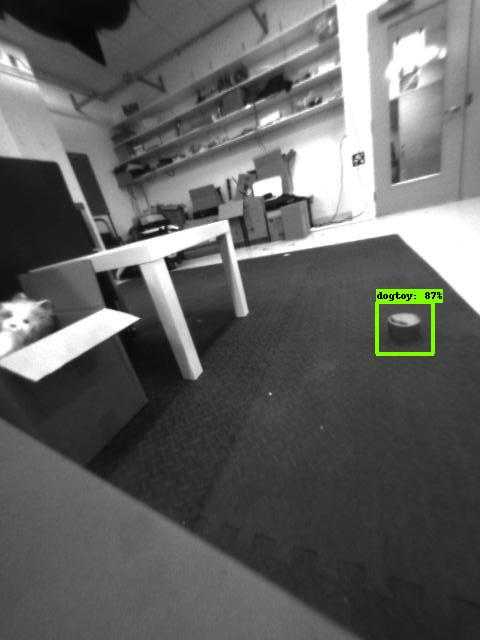dogtoy: (371, 308, 435, 351)
